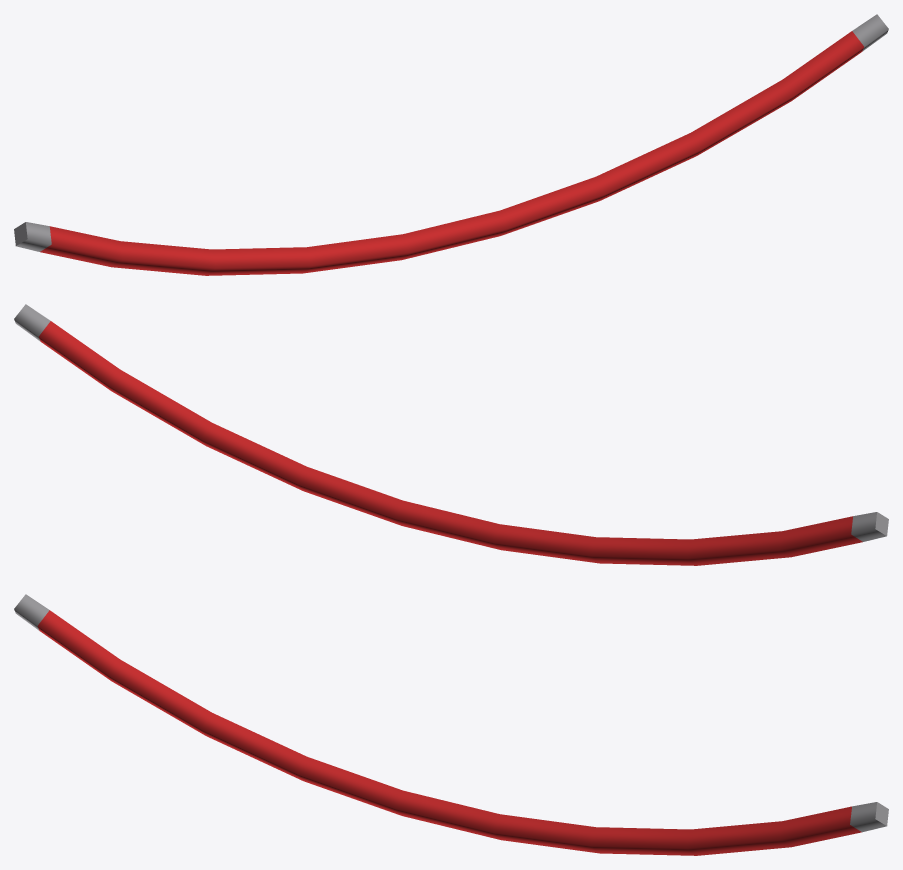
Rendered from Fence_09.glb.
3 renders of one model, top to bottom at view 1: azimuth 30°, elevation 25°; view 2: azimuth 150°, elevation 25°; view 3: azimuth 330°, elevation 25°, orthographic.
Visible parts, largest first — view 1: Fence_09; view 2: Fence_09; view 3: Fence_09.
Boxes of the visible parts, <box> form: Fence_09: <box>14,14,888,275</box>; Fence_09: <box>14,304,888,565</box>; Fence_09: <box>14,594,888,855</box>.
Bounding box in the file's own units: 1.92 × 0.2738 × 0.0548.
1 material, 1 textured.
